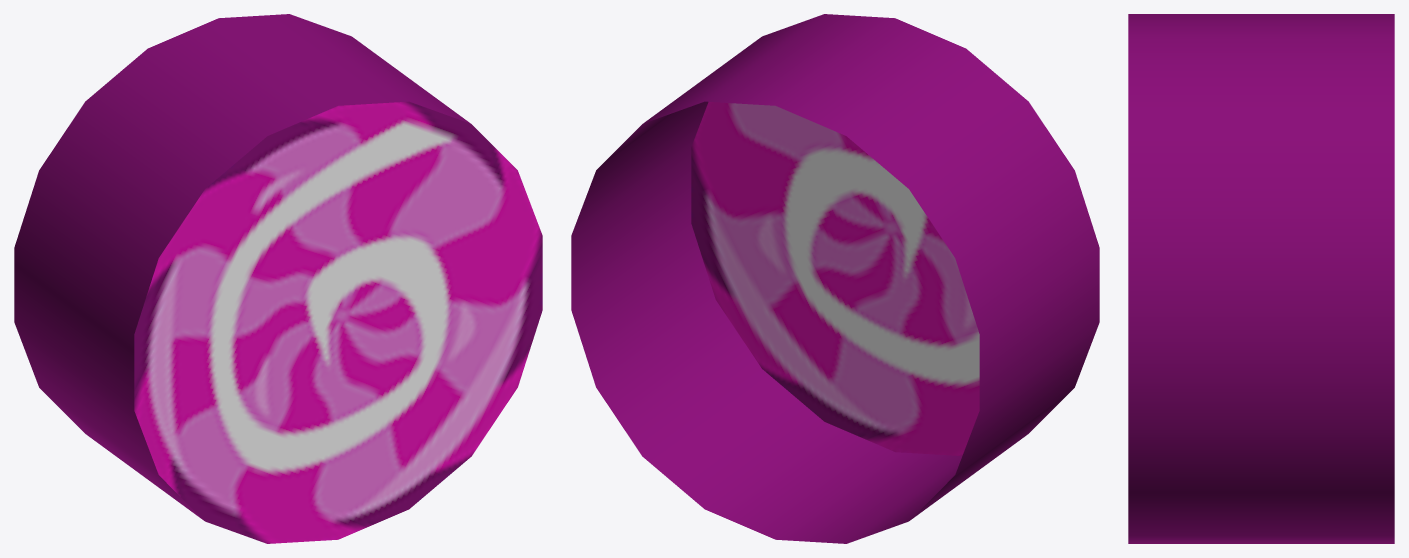
The model's file is Node_Pink.fbx.
3 views of the same model, side by side, from view 1: azimuth 30°, elevation 25°; view 2: azimuth 150°, elevation 25°; view 3: azimuth 270°, elevation 25° (orthographic). The views are drawn at different scales.
Parts seen in each view (by area): view 1: pCylinder31; view 2: pCylinder31; view 3: pCylinder31.
Boxes of the visible parts, box(x1,y1,x2,y2) form: pCylinder31: box(14, 14, 542, 543); pCylinder31: box(571, 14, 1099, 543); pCylinder31: box(1128, 14, 1394, 543).
Bounding box in the file's own units: 29.5 × 29.95 × 14.98.
1 material, 1 textured.
